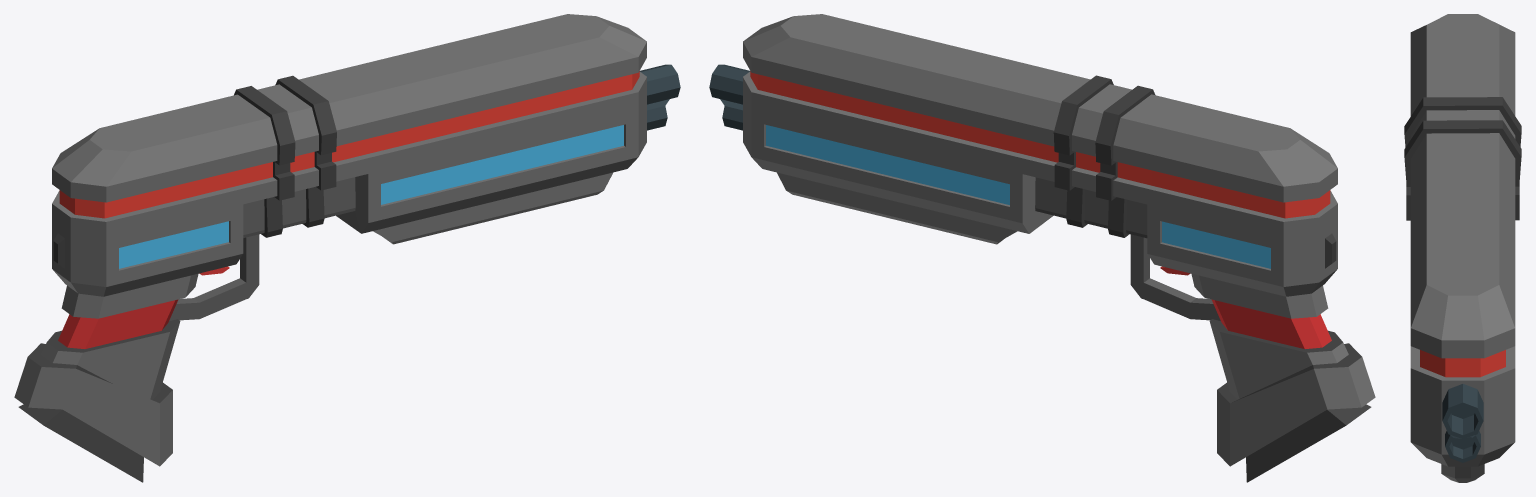
File: Pistol.fbx
3 renders of one model, left to right at view 1: azimuth 30°, elevation 25°; view 2: azimuth 150°, elevation 25°; view 3: azimuth 270°, elevation 25°, orthographic. The views are drawn at different scales.
Parts seen in each view (by area): view 1: Pistol; view 2: Pistol; view 3: Pistol.
Part boxes in pixels (box(x1,y1,x2,y2)): Pistol: box(14, 14, 680, 482); Pistol: box(709, 14, 1375, 482); Pistol: box(1404, 14, 1521, 482).
Size of the model in its own units: 146 by 73.28 by 19.99.
